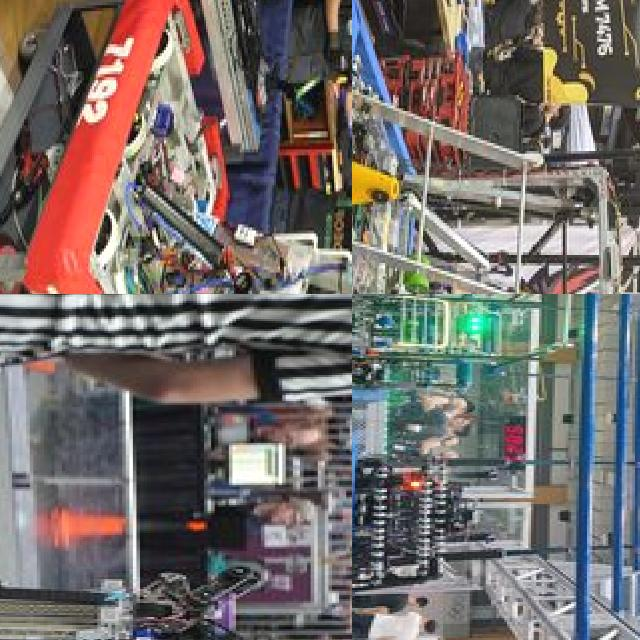FRC-Robots: (25, 0, 352, 294), (352, 4, 640, 294), (0, 454, 352, 640), (352, 435, 640, 640), (352, 294, 640, 411)
